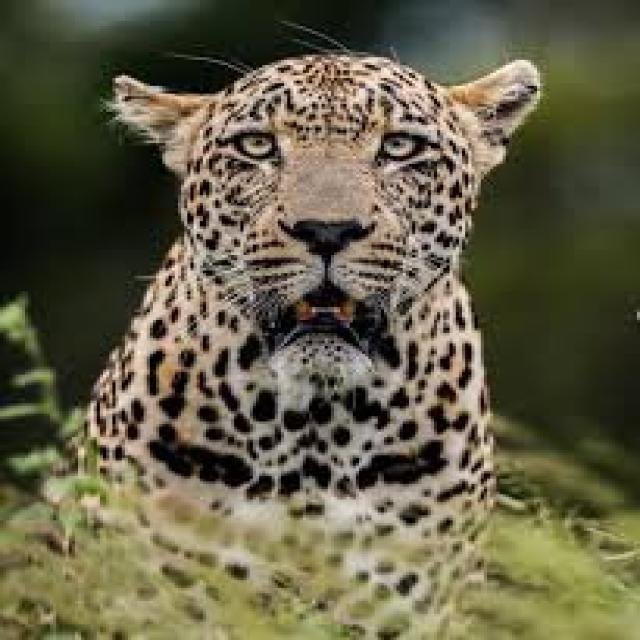Leopard: (101, 50, 546, 613)
